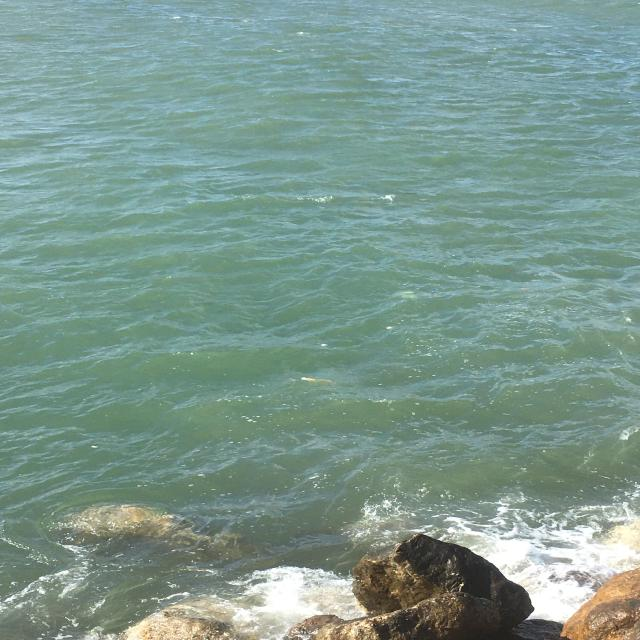Plastic bottle: (298, 375, 338, 388)
